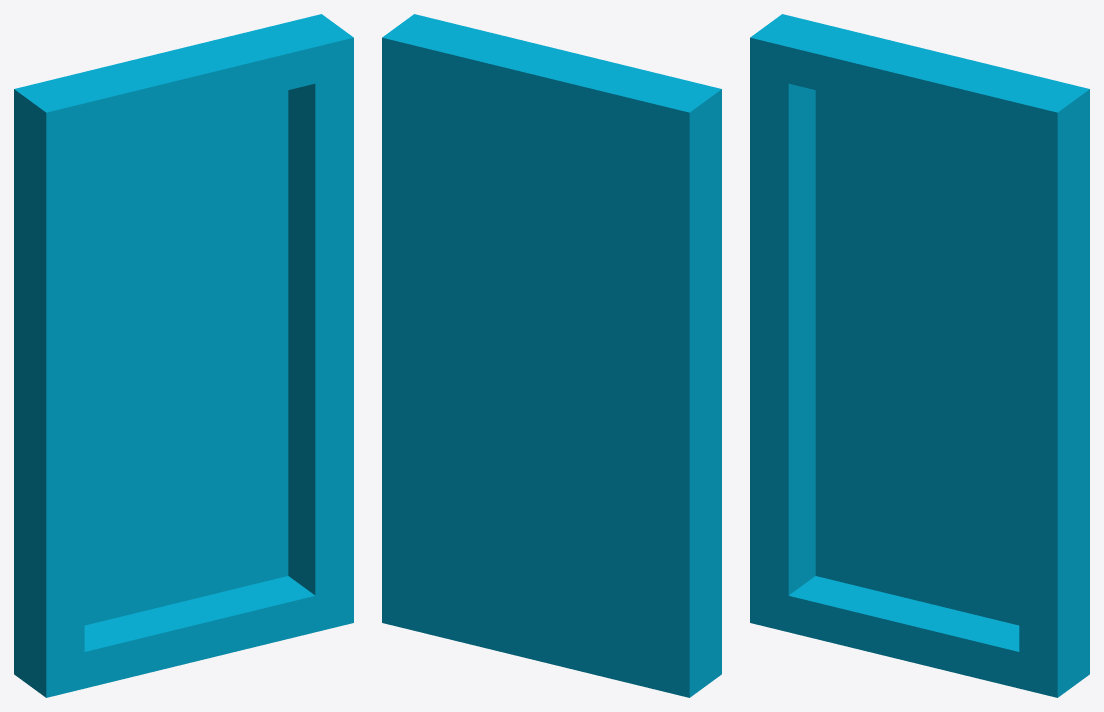
Rendered from pinball.fbx.
The picture shows the model from 3 angles, left to right: view 1: azimuth 30°, elevation 25°; view 2: azimuth 150°, elevation 25°; view 3: azimuth 330°, elevation 25°; orthographic projection.
Parts seen in each view (by area): view 1: Cube.001, Cube.002; view 2: Cube.002, Cube.001; view 3: Cube.001, Cube.002.
Boxes of the visible parts, box(x1,y1,x2,y2) form: Cube.001: box(14, 14, 353, 697); Cube.002: box(84, 90, 288, 625); Cube.002: box(422, 84, 651, 651); Cube.001: box(382, 14, 721, 697); Cube.001: box(750, 14, 1089, 697); Cube.002: box(815, 90, 1019, 625).
Bounding box in the file's own units: 11000 × 20000 × 1998.
